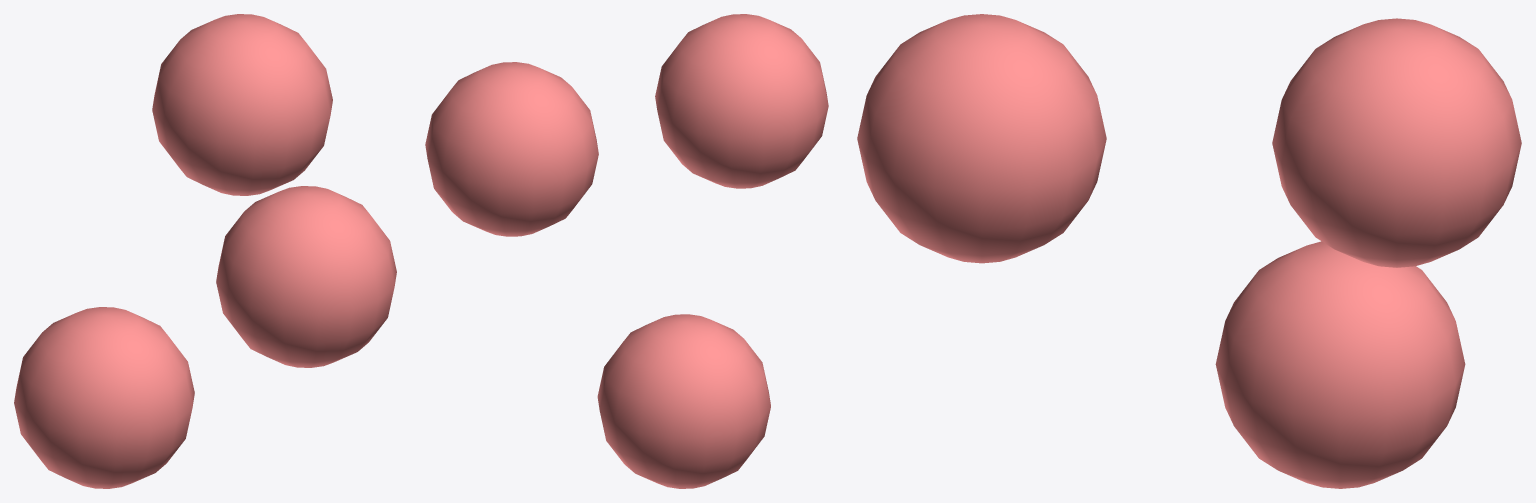
Rendered from balls_side.glb.
3 views of the same model, side by side, from view 1: azimuth 30°, elevation 25°; view 2: azimuth 150°, elevation 25°; view 3: azimuth 270°, elevation 25° (orthographic). The views are drawn at different scales.
Visible parts, largest first — view 1: Sphere001, Sphere001.001, Sphere001.002; view 2: Sphere001, Sphere001.001, Sphere001.002; view 3: Sphere001, Sphere001.001, Sphere001.002.
Part boxes in pixels (x1,y1,x2,y2): Sphere001: (152,14,332,195); Sphere001.001: (216,186,396,367); Sphere001.002: (14,307,194,488); Sphere001: (425,62,598,236); Sphere001.001: (655,14,828,188); Sphere001.002: (597,314,770,488); Sphere001: (1272,18,1521,267); Sphere001.001: (857,14,1106,263); Sphere001.002: (1215,241,1465,488).
Size of the model in its own units: 0.0186 by 0.0227 by 0.0247.
